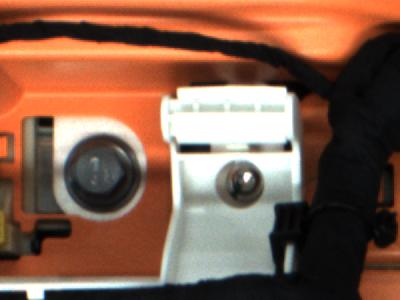nut_b: (65, 136, 145, 214)
